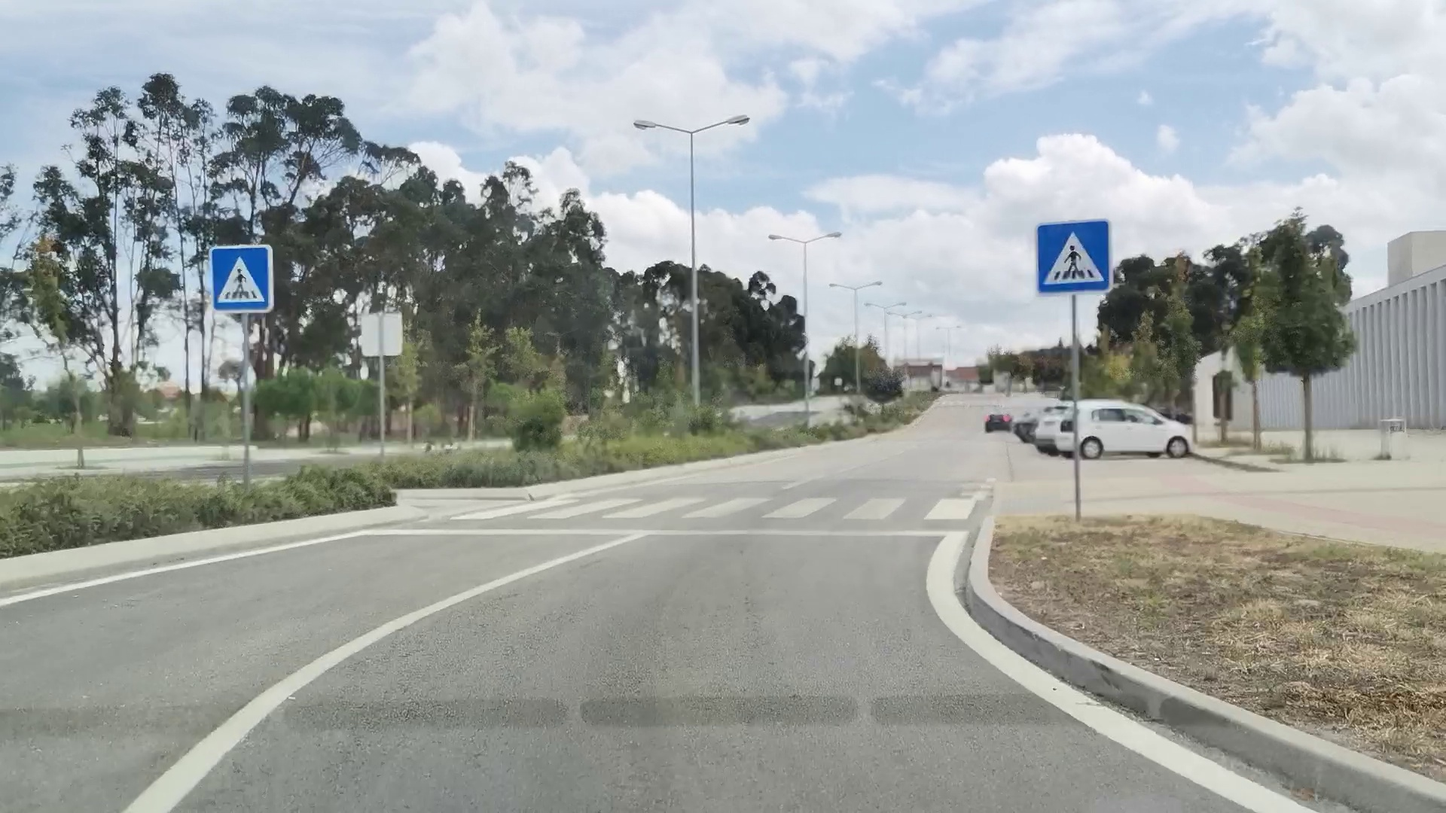Stairs: (463, 493, 980, 523)
